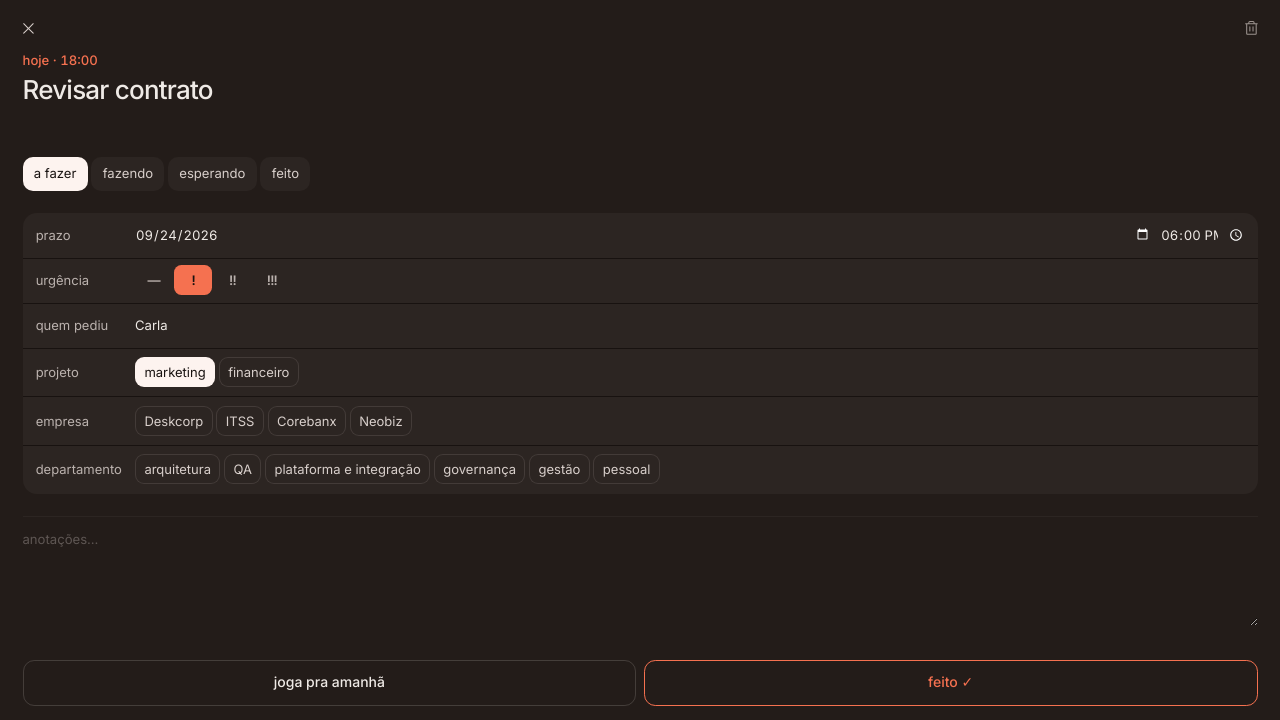
Test: DemandDetail › joga pra amanhã
Click the button "joga pra amanhã" at point(329, 682), box [22,660,636,706]
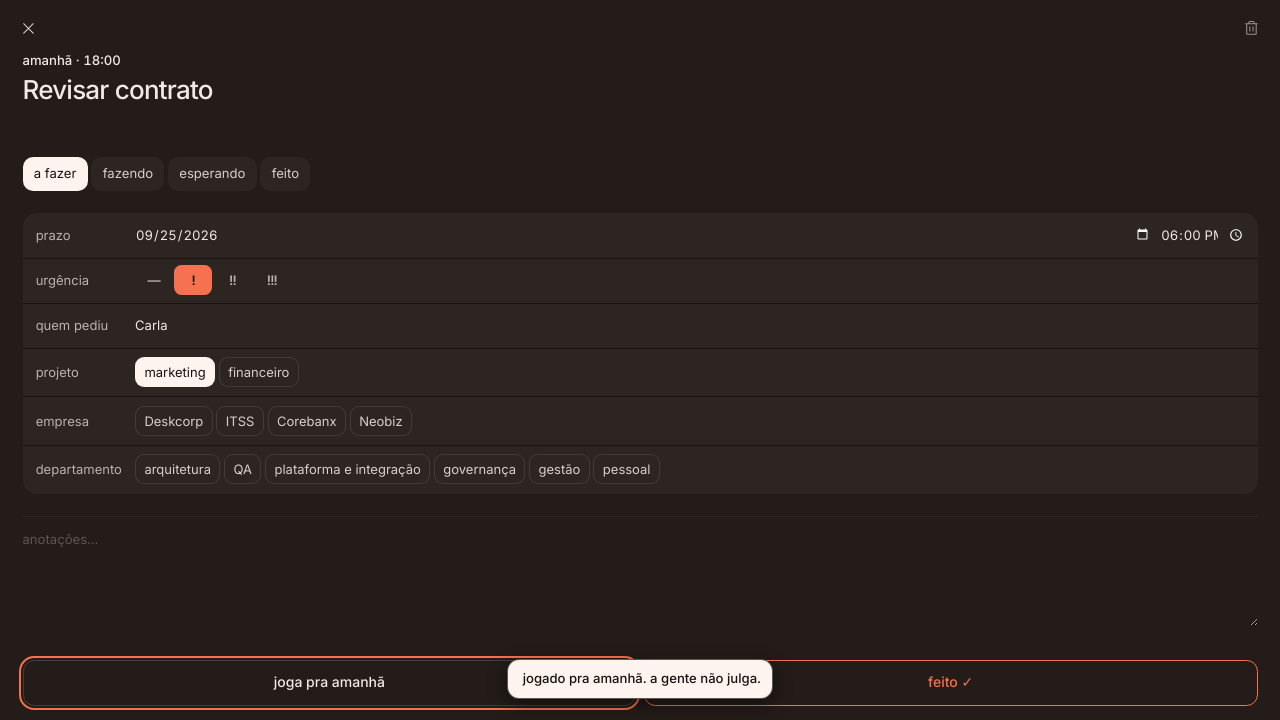
expect the text "jogado pra amanhã. a gente não julga." is shown: met, box [523,669,761,688]
expect the text "amanhã · 18:00" is shown: met, box [22,52,121,68]
